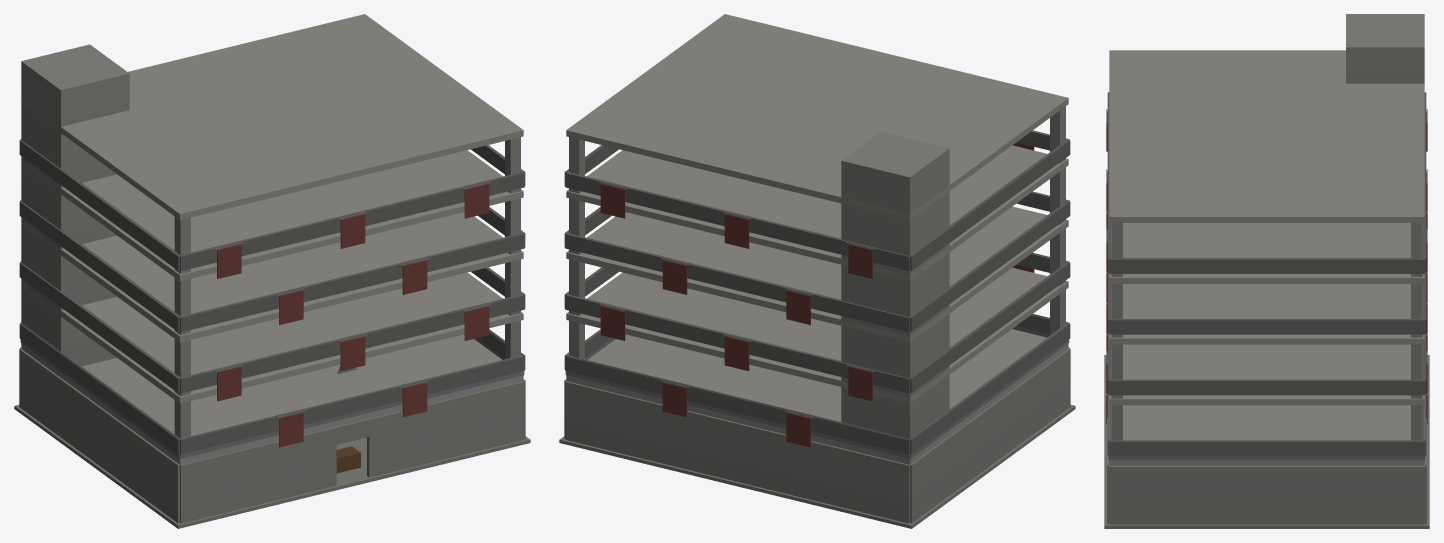
Rendered from town_city_deck.glb.
The picture shows the model from 3 angles, left to right: view 1: azimuth 30°, elevation 25°; view 2: azimuth 150°, elevation 25°; view 3: azimuth 270°, elevation 25°; orthographic projection.
Parts seen in each view (by area): view 1: prop; view 2: prop; view 3: prop.
Part boxes in pixels (x1,y1,x2,y2): prop: (14,14,530,528); prop: (559,14,1075,528); prop: (1104,14,1429,528).
Bounding box in the file's own units: 20.5 × 19.38 × 16.5.
